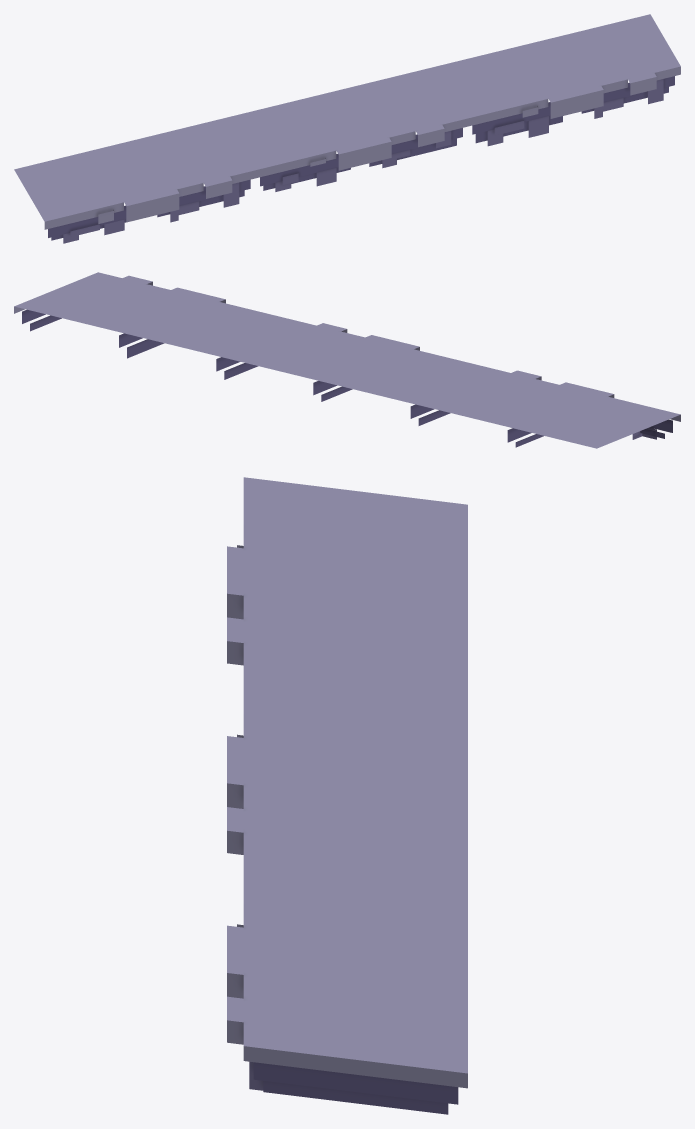
Rendered from Field_Type_02_05.FBX.
3 views of the same model, one above another, from view 1: azimuth 30°, elevation 25°; view 2: azimuth 150°, elevation 25°; view 3: azimuth 270°, elevation 25° (orthographic). The views are drawn at different scales.
Visible parts, largest first — view 1: Field_Type_02_05; view 2: Field_Type_02_05; view 3: Field_Type_02_05.
Part boxes in pixels (<box>): Field_Type_02_05: <box>14,14,680,243</box>; Field_Type_02_05: <box>14,272,680,448</box>; Field_Type_02_05: <box>227,477,467,1114</box>.
Size of the model in its own units: 136 by 7.41 by 23.21.
